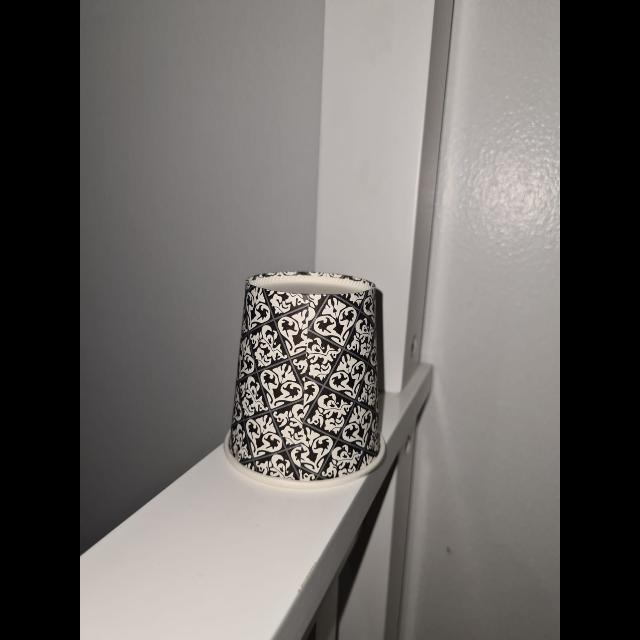trash: (224, 270, 390, 488)
